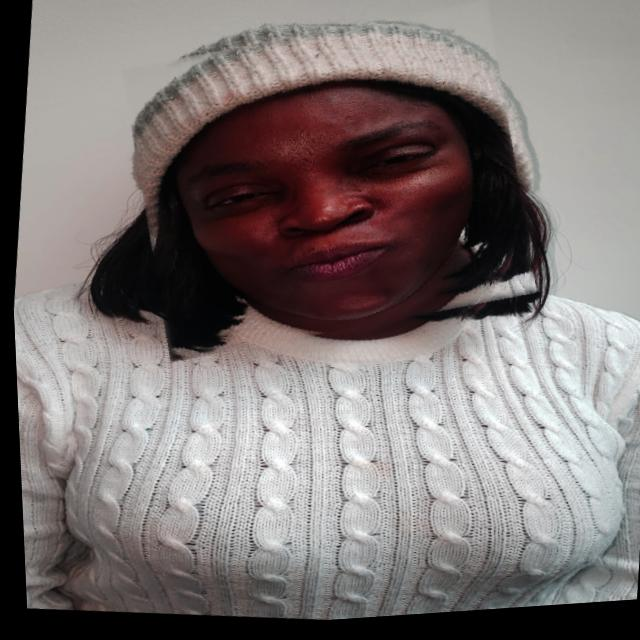happy: (104, 0, 550, 385)
